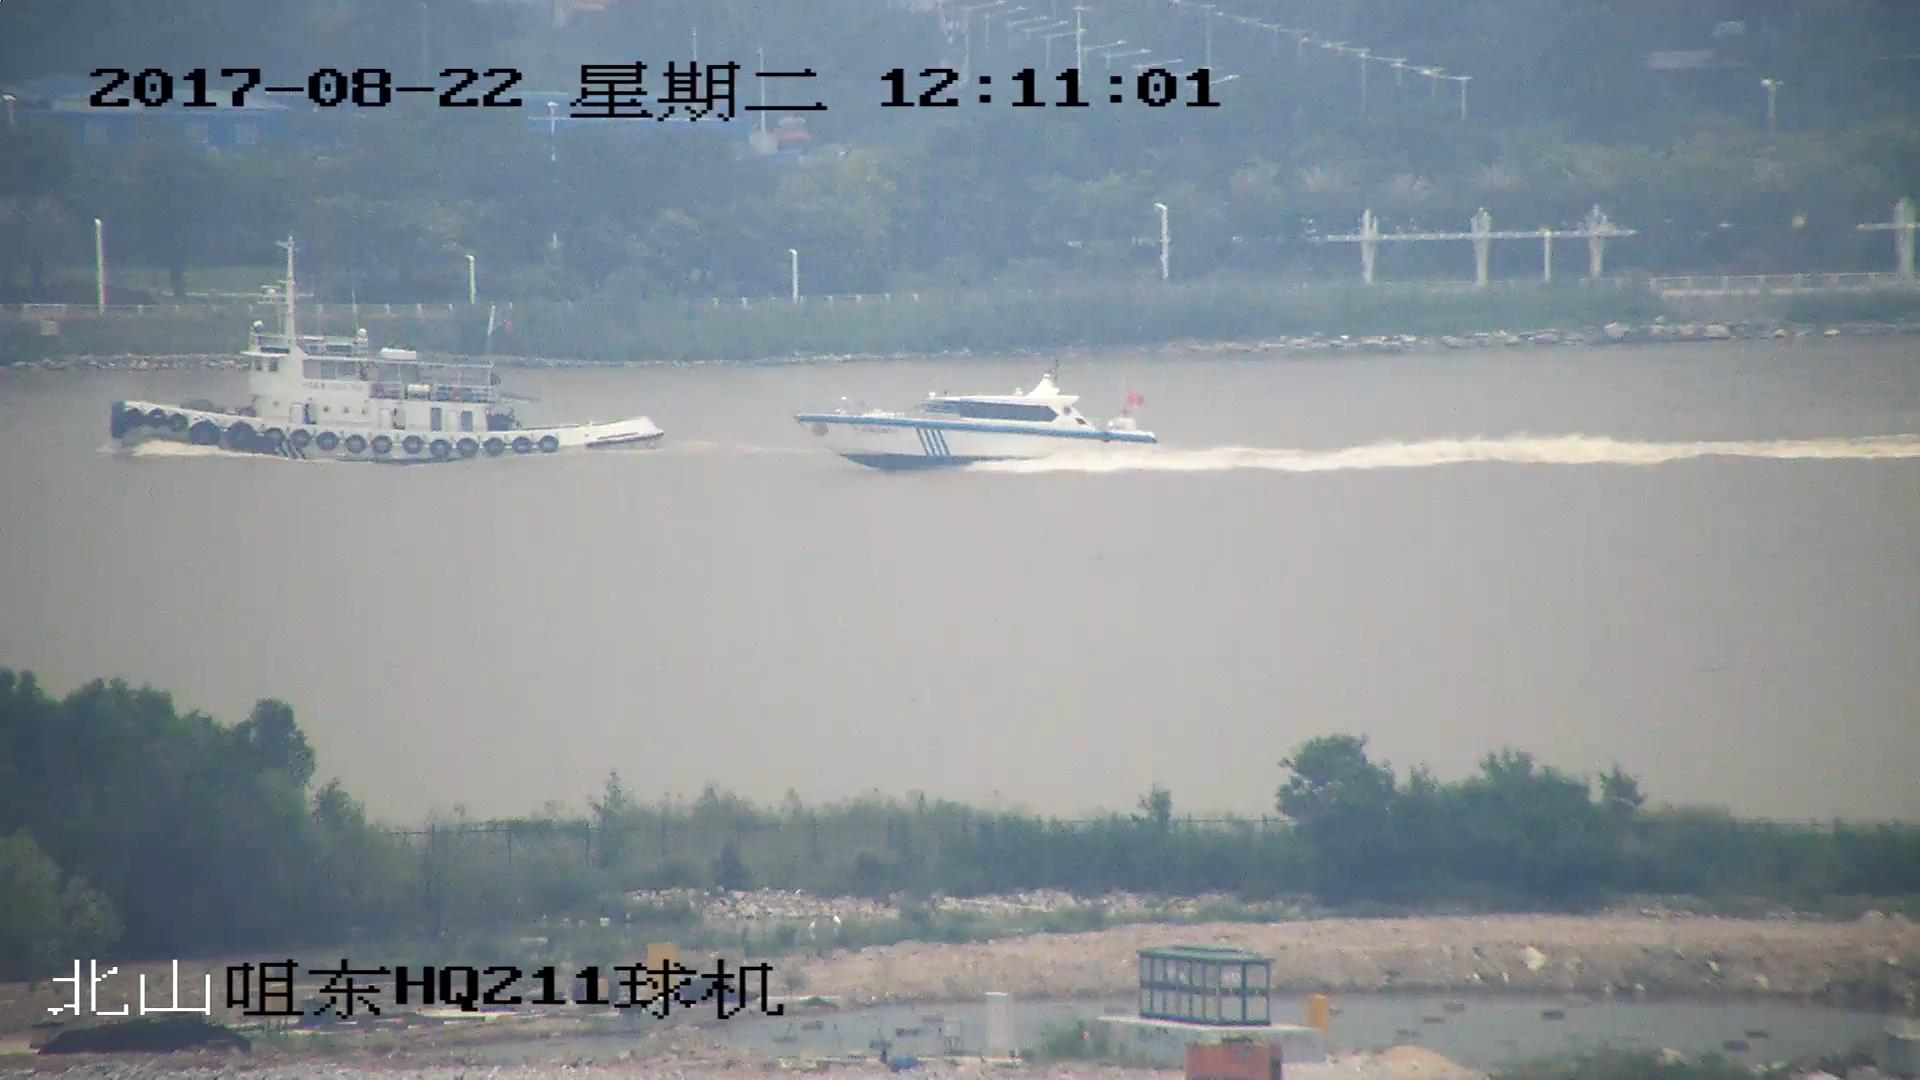passenger ship: (110, 245, 664, 453), (796, 375, 1164, 471)
